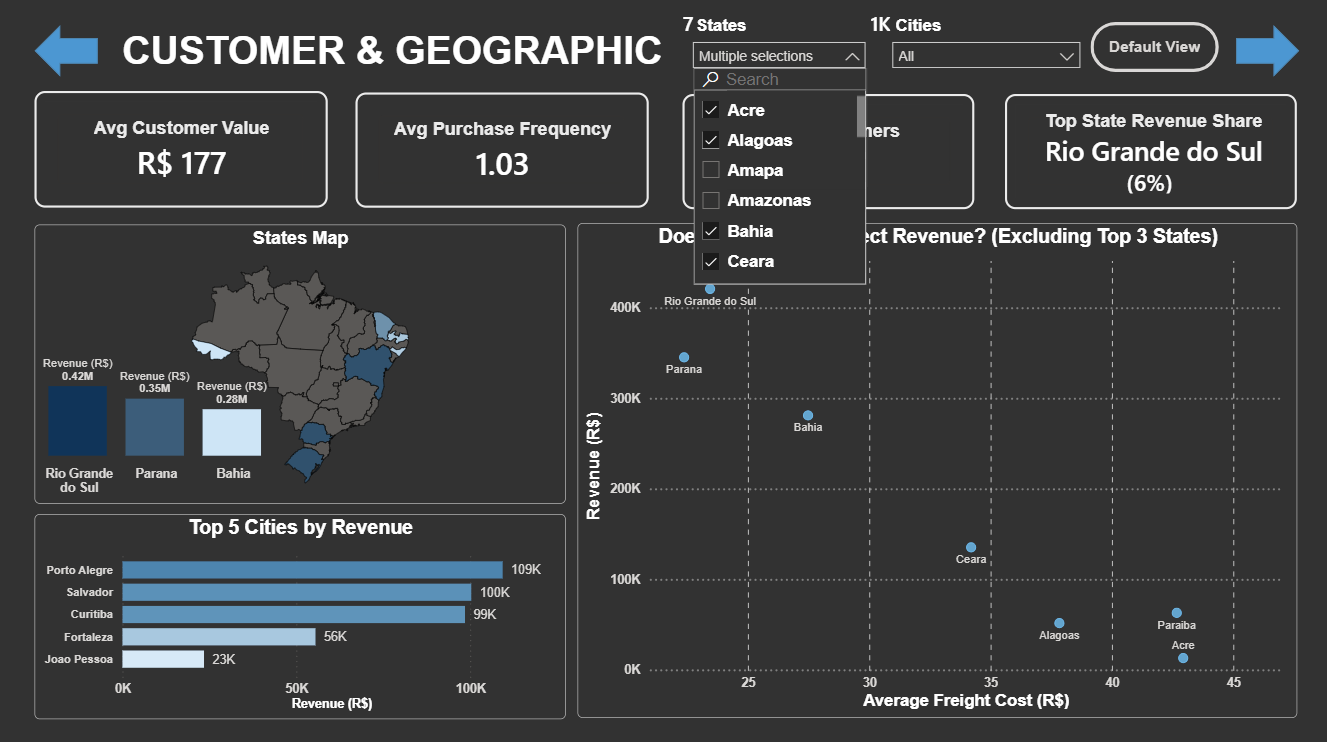

What the dashboard file says about the page in this screenshot:
{"tool":"powerbi","page":{"name":"Customer & Geographic","canvas":[1280,720],"ordinal":2},"visuals":[{"type":"cardVisual","fields":{"Data":["public fact_sales.Customers"]},"box":[660.1,97,278.4,109.8],"z":0},{"type":"cardVisual","fields":{"Data":["all_measures.Top State by Revenue Share (Name)"]},"box":[968.7,97,278.4,109.8],"z":1000},{"type":"clusteredBarChart","title":"Top 5 Cities by Revenue","fields":{"Category":["public dim_customer.customer_city"],"Y":["all_measures.Total Revenue"]},"box":[41.5,498.5,507.1,196.2],"z":2000},{"type":"actionButton","box":[1049.8,28.6,122.5,47.7],"z":3000},{"type":"shapeMap","title":"States Map","fields":{"Category":["public dim_customer.state_name"],"Value":["public fact_sales.Revenue"]},"box":[41.5,222,507.1,266.4],"z":4000},{"type":"slicer","fields":{"Values":["public dim_customer.state_name"]},"box":[660.3,17.2,184.8,70.2],"z":5000},{"type":"slicer","fields":{"Values":["public dim_customer.customer_city"]},"box":[850.5,17.5,199.1,70.1],"z":7000},{"type":"cardVisual","fields":{"Data":["all_measures.Total States"]},"box":[611.6,1.4,88.8,55.9],"z":8000},{"type":"cardVisual","fields":{"Data":["all_measures.Total Cities"]},"box":[801.1,1.6,87.6,55.7],"z":9000},{"type":"clusteredColumnChart","title":"Revenue","fields":{"Category":["public dim_customer.state_name"],"Y":["all_measures.Total Revenue"]},"box":[10,333.7,285,154.7],"z":10000},{"type":"cardVisual","fields":{"Data":["all_measures.Top State Revenue Share Name"]},"box":[956,92.3,310.2,98.6],"z":13000},{"type":"cardVisual","fields":{"Data":["all_measures.Top State by Revenue Share (Value)"]},"box":[966.6,150.2,279.9,59.8],"z":14000},{"type":"cardVisual","fields":{"Data":["all_measures.Average Purchase Frequency"]},"box":[348.3,95.4,279.9,109.8],"z":15000},{"type":"cardVisual","fields":{"Data":["all_measures.Average Customer Lifetime Value"]},"box":[41.4,93.8,279.9,111.3],"z":16000},{"type":"scatterChart","title":"Does Freight Cost Affect Revenue? (Excluding Top 3 States)","fields":{"X":["all_measures.Average Freight Cost"],"Category":["public dim_customer.state_name"],"Y":["all_measures.Total Revenue"]},"box":[560.1,220.6,687.5,472.7],"z":17000},{"type":"shape","box":[1188.2,31.8,60.4,49.3],"z":21000},{"type":"shape","box":[41.4,31.8,60.4,49.3],"z":22000},{"type":"textbox","box":[120.9,28.6,575.8,63.6],"z":23000}]}

Visuals, with their boxes in screenshot pixels (x1, y1, x2, y2), scaled from the page's 1280x720 canvas onto the 1327x742 screenshot:
cardVisual - public fact_sales.Customers: 684 100 973 213
cardVisual - all_measures.Top State by Revenue Share (Name): 1004 100 1293 213
"Top 5 Cities by Revenue" clusteredBarChart: 43 514 569 716
actionButton: 1088 29 1215 79
"States Map" shapeMap: 43 229 569 503
slicer - public dim_customer.state_name: 685 18 876 90
slicer - public dim_customer.customer_city: 882 18 1088 90
cardVisual - all_measures.Total States: 634 1 726 59
cardVisual - all_measures.Total Cities: 831 2 921 59
"Revenue" clusteredColumnChart: 10 344 306 503
cardVisual - all_measures.Top State Revenue Share Name: 991 95 1313 197
cardVisual - all_measures.Top State by Revenue Share (Value): 1002 155 1292 216
cardVisual - all_measures.Average Purchase Frequency: 361 98 651 211
cardVisual - all_measures.Average Customer Lifetime Value: 43 97 333 211
"Does Freight Cost Affect Revenue? (Excluding Top 3 States)" scatterChart: 581 227 1293 714
shape: 1232 33 1294 84
shape: 43 33 106 84
textbox: 125 29 722 95
